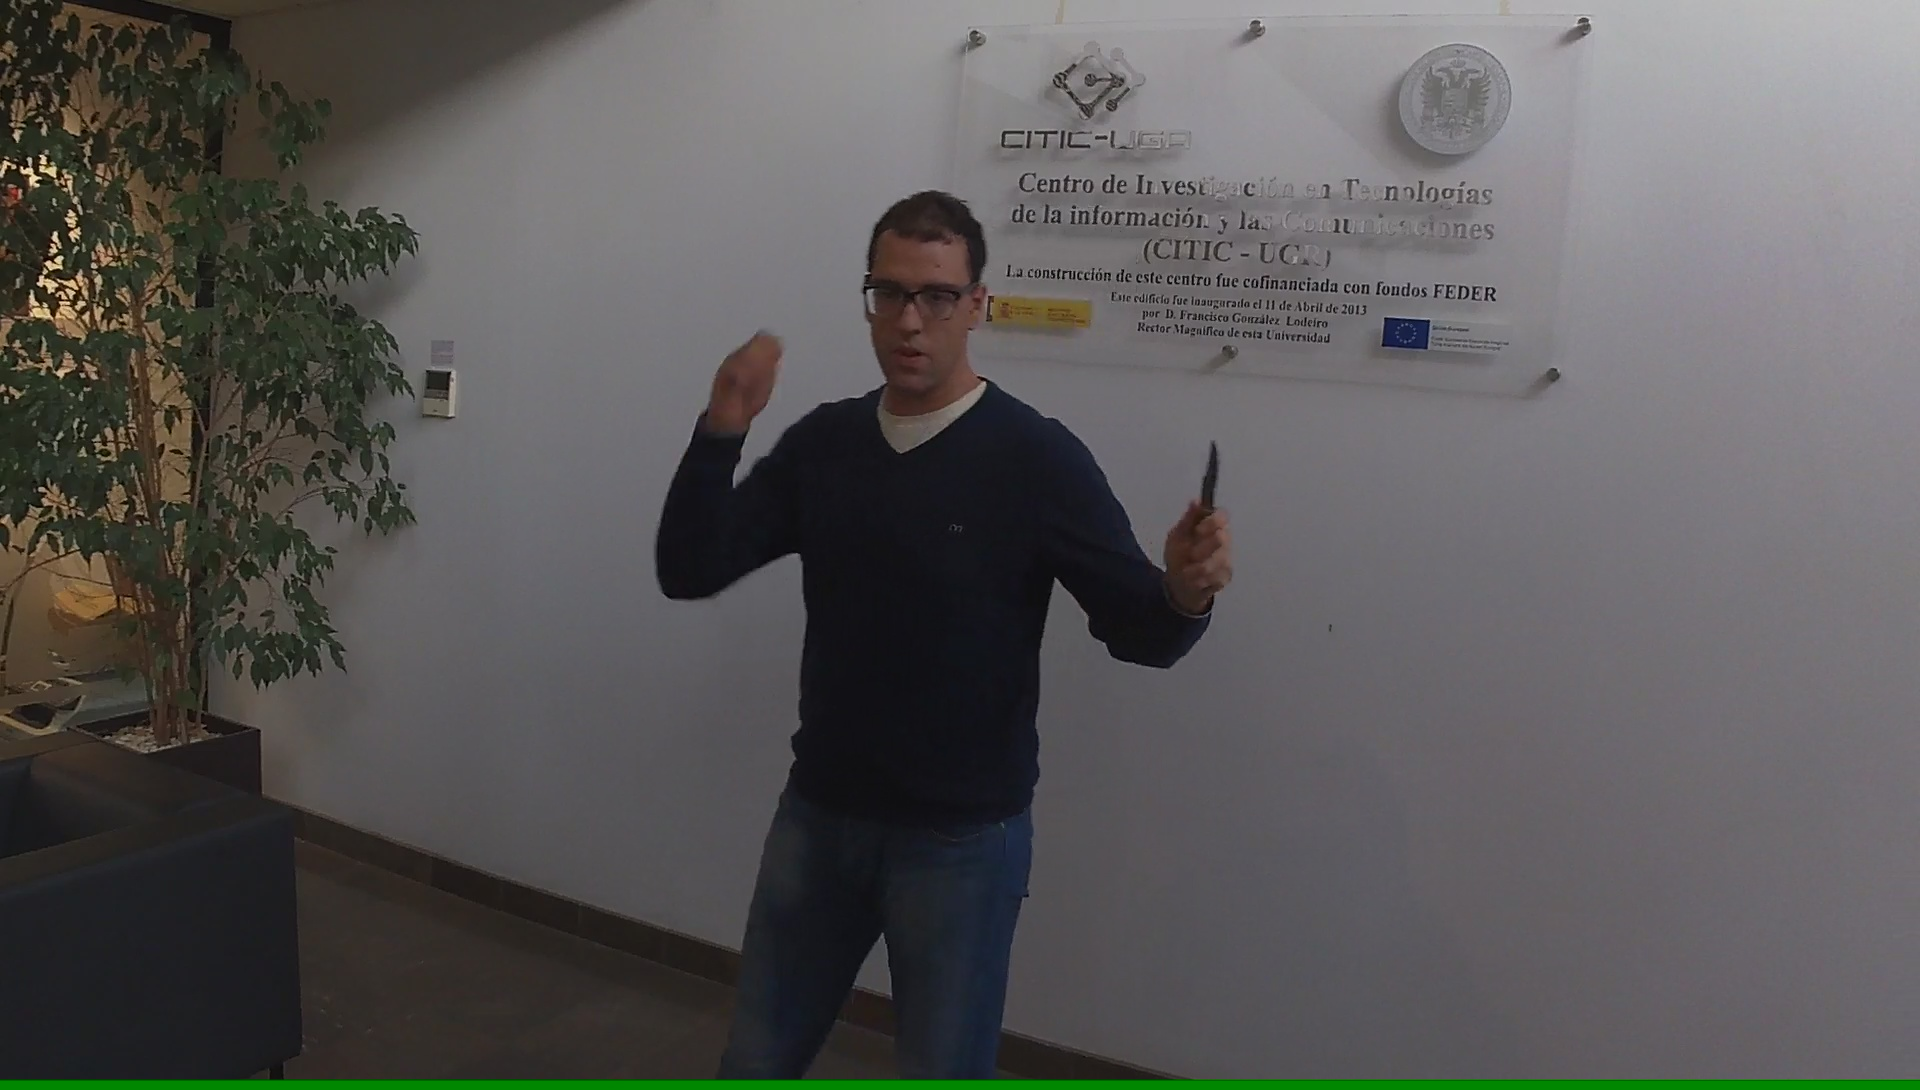knife: (1184, 424, 1240, 617)
